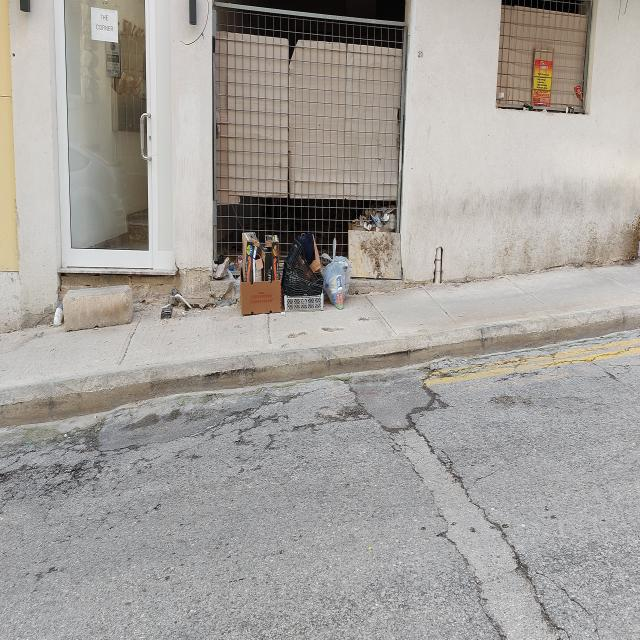Organic Waste -White Bag-: (324, 254, 354, 311)
Other: (241, 233, 283, 315), (284, 234, 324, 314)
